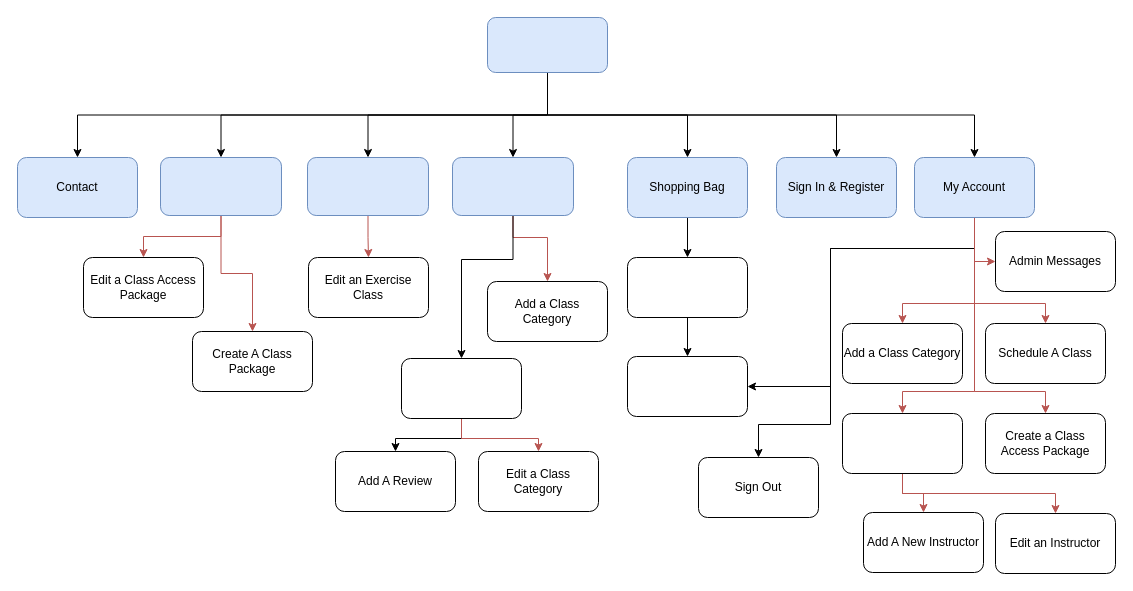
The diagram is 1133 pixels wide and 591 high, and some of its shapes have lost their labels. Here are the shapes that lost their labels. From the top down, the centre of each, then its label:
(547,44): Home
(221,186): Join Now
(367,186): Classes this Week / Classes by Day
(513,186): Our Classes
(687,287): Checkout
(461,388): Class Details
(687,386): Checkout Success Order Review / Previous Order Review
(902,443): Instructor Account Management
